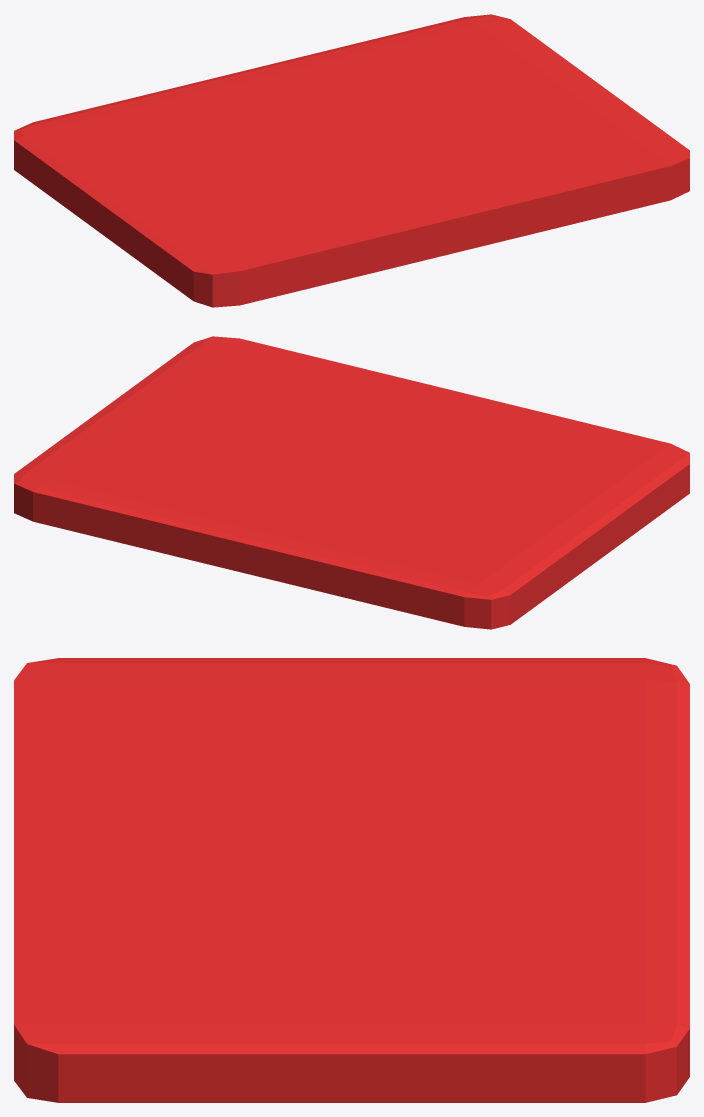
File: cooler_lid.fbx
The picture shows the model from 3 angles, top to bottom: view 1: azimuth 30°, elevation 25°; view 2: azimuth 150°, elevation 25°; view 3: azimuth 270°, elevation 25°; orthographic projection. The views are drawn at different scales.
Visible parts, largest first — view 1: cooler_lid; view 2: cooler_lid; view 3: cooler_lid.
Boxes of the visible parts, x1,y1,x2,y2 form: cooler_lid: (14, 14, 689, 307); cooler_lid: (14, 336, 689, 629); cooler_lid: (14, 658, 689, 1102).
Bounding box in the file's own units: 85.63 × 5.64 × 61.74.
Materials: 1 (1 with a texture image).
